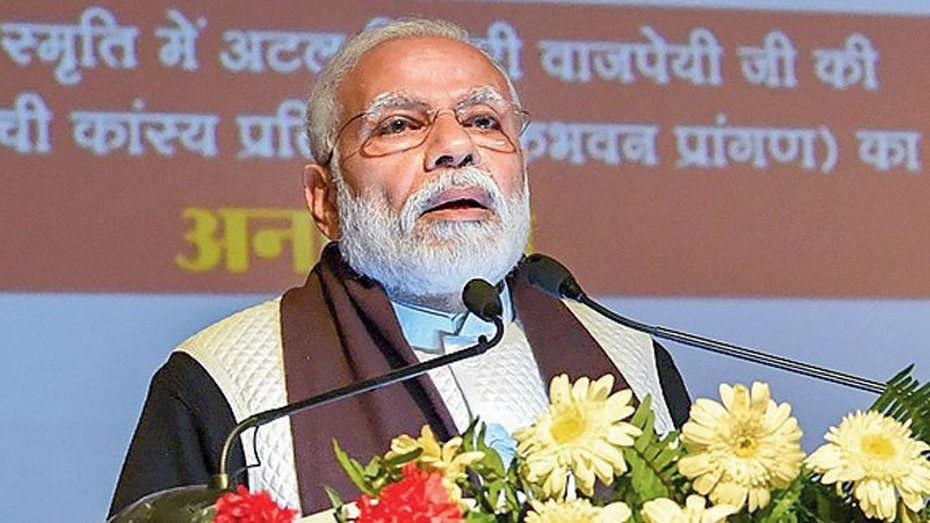face_no_mask: (321, 32, 530, 286)
